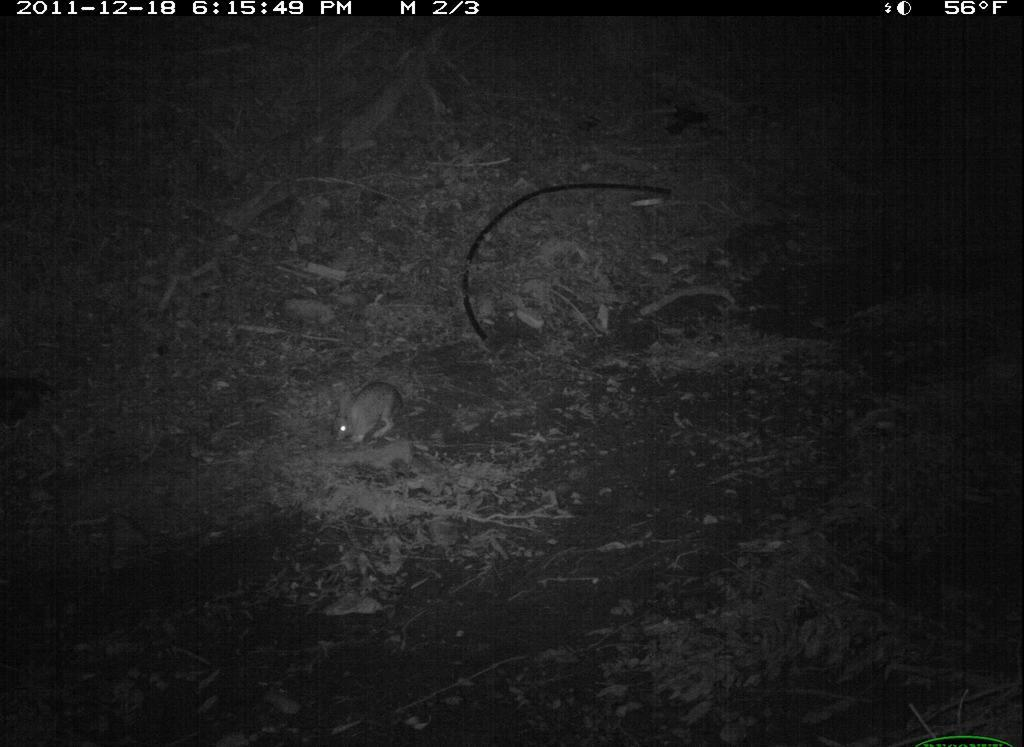rabbit: (316, 364, 437, 456)
